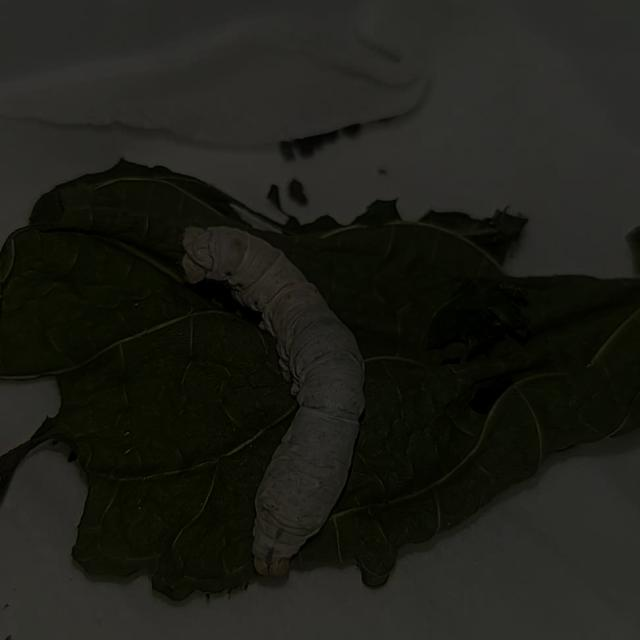Healthy: (140, 188, 415, 598)
